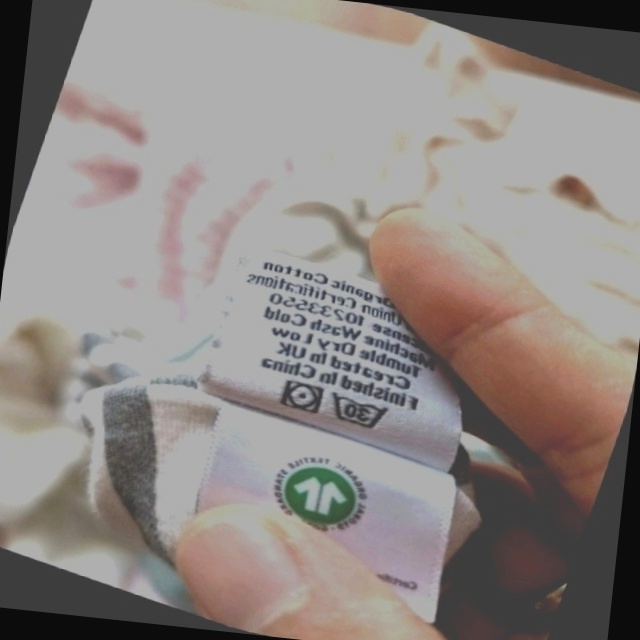30C: (320, 383, 398, 440)
tumble_dry_low: (273, 372, 330, 422)
